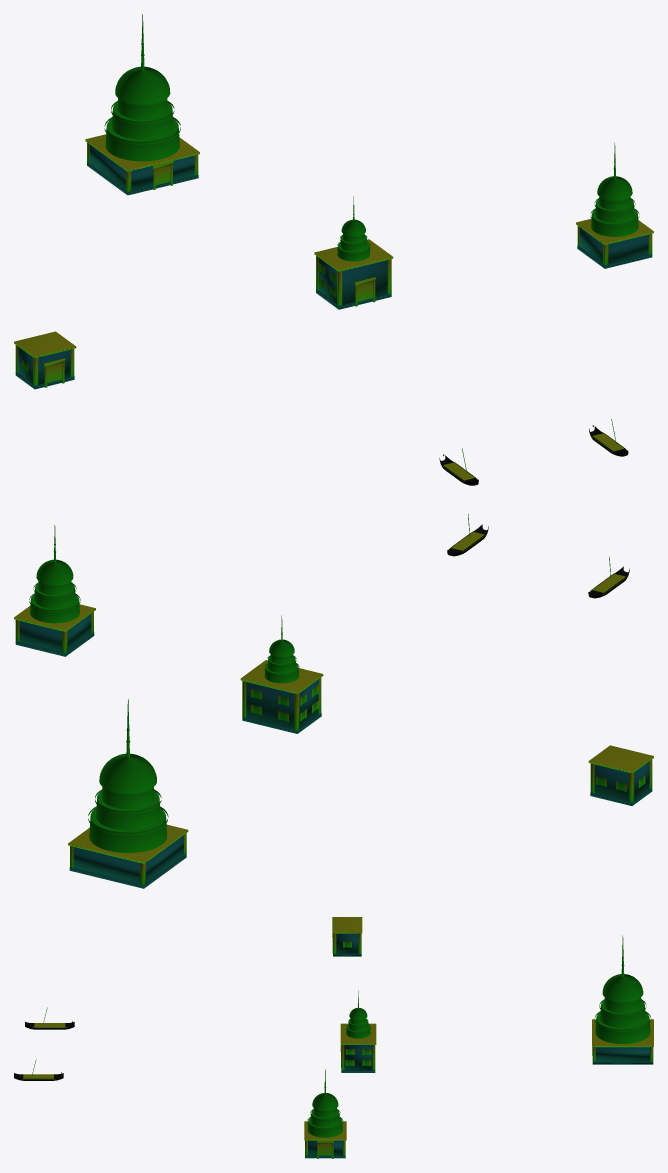
Rendered from ansedra_buildings.glb.
3 views of the same model, one above another, from view 1: azimuth 30°, elevation 25°; view 2: azimuth 150°, elevation 25°; view 3: azimuth 270°, elevation 25° (orthographic). The views are drawn at different scales.
Visible parts, largest first — view 1: ansedra_buildings; view 2: ansedra_buildings; view 3: ansedra_buildings.
Boxes of the visible parts, x1,y1,x2,y2 form: ansedra_buildings: (14, 14, 653, 485); ansedra_buildings: (14, 514, 653, 888); ansedra_buildings: (14, 917, 653, 1158).
Size of what is drawn, in the model's own units: 93.07 by 23.76 by 116.
